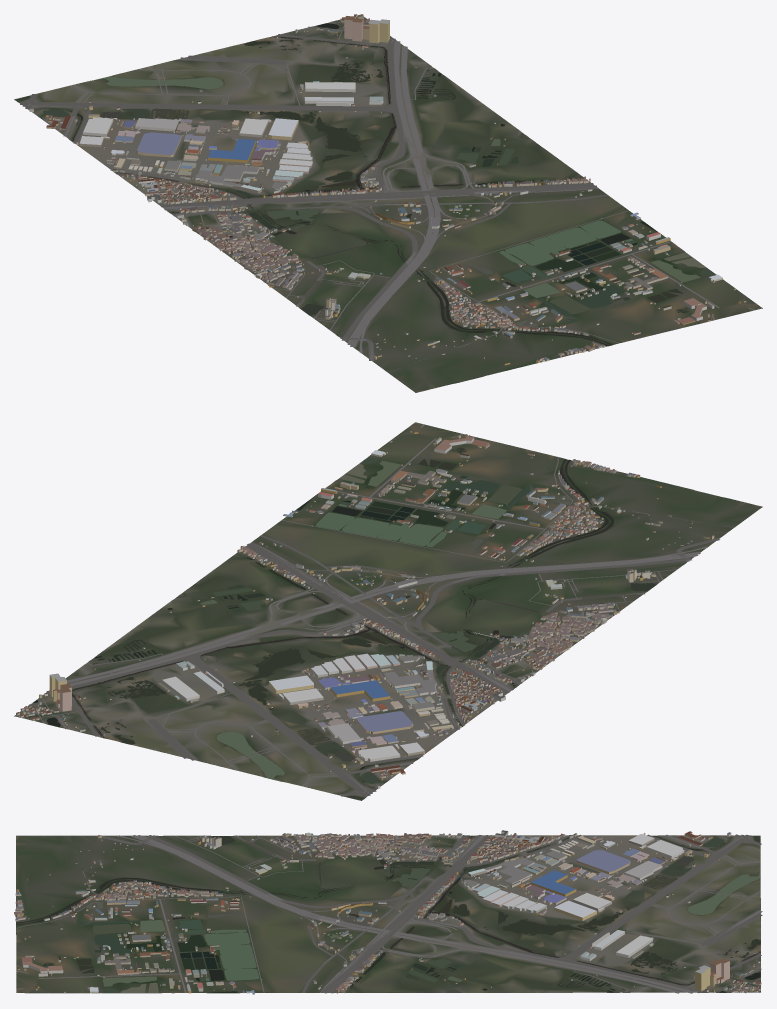
3 renders of one model, top to bottom at view 1: azimuth 30°, elevation 25°; view 2: azimuth 150°, elevation 25°; view 3: azimuth 270°, elevation 25°, orthographic. The views are drawn at different scales.
Visible parts, largest first — view 1: ground, buildings, water, roads; view 2: ground, buildings, water, roads; view 3: ground, buildings, water, roads.
Part boxes in pixels (left/top/right/bottom): ground: left=14, top=15, right=762, bottom=392; buildings: left=29, top=14, right=746, bottom=365; water: left=15, top=23, right=713, bottom=345; roads: left=20, top=14, right=754, bottom=362; ground: left=14, top=422, right=762, bottom=800; buildings: left=16, top=431, right=714, bottom=788; water: left=33, top=448, right=655, bottom=800; roads: left=14, top=424, right=733, bottom=796; ground: left=16, top=835, right=760, bottom=993; buildings: left=14, top=830, right=761, bottom=994; water: left=16, top=835, right=760, bottom=992; roads: left=16, top=834, right=762, bottom=993.
Bounding box in the file's own units: 1439 × 77.28 × 2820.
